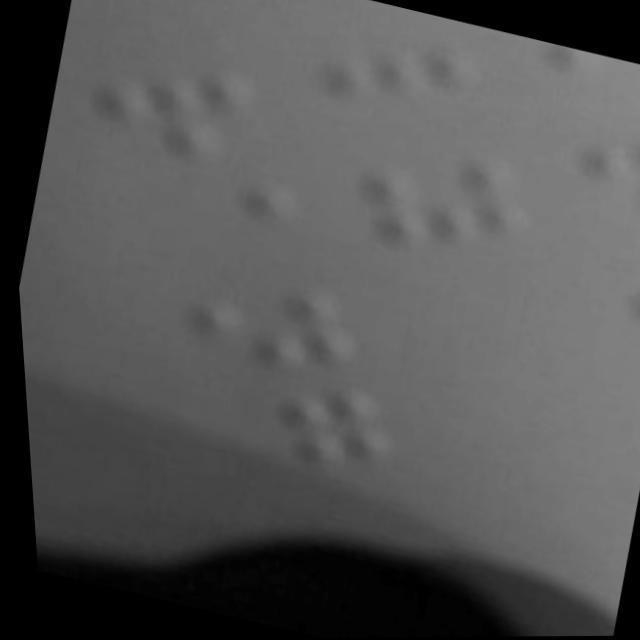braiile: (181, 360, 399, 523), (348, 135, 533, 283), (74, 40, 263, 184), (168, 265, 364, 397), (303, 20, 478, 160)
